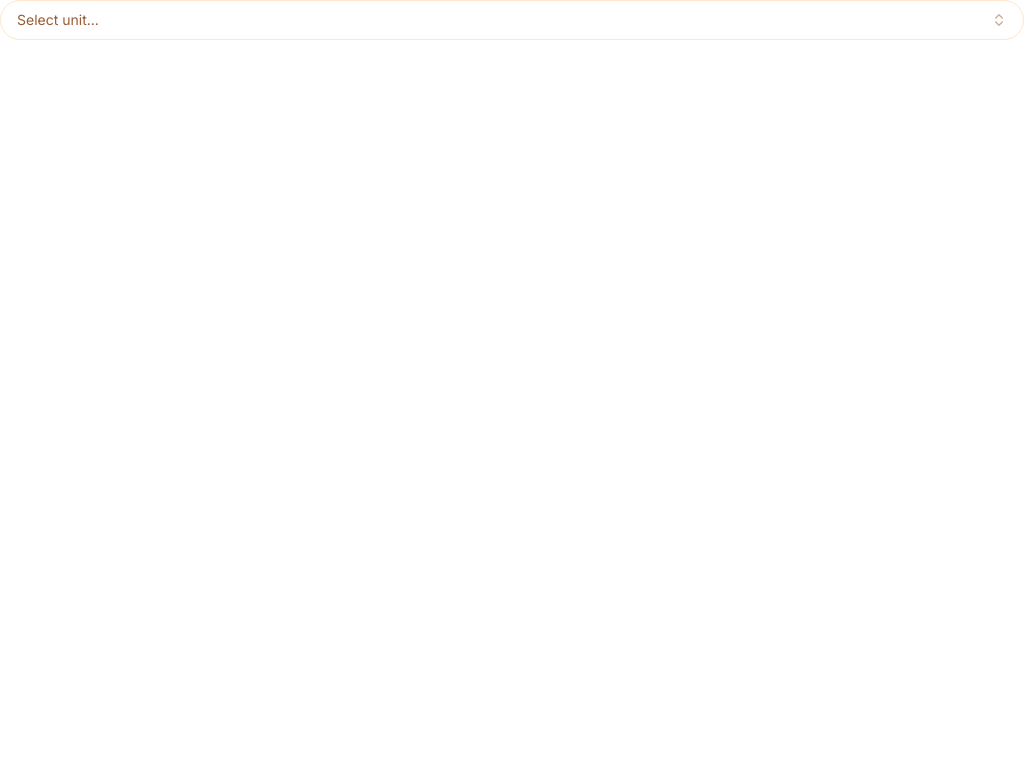
Test case: UnitSelect › fetches and displays units
Expected: the text "Select unit..." is shown, [17,10,99,30]
Click the dropdown with test id "unit-select-trigger" at (58, 20), box [0,0,1023,40]
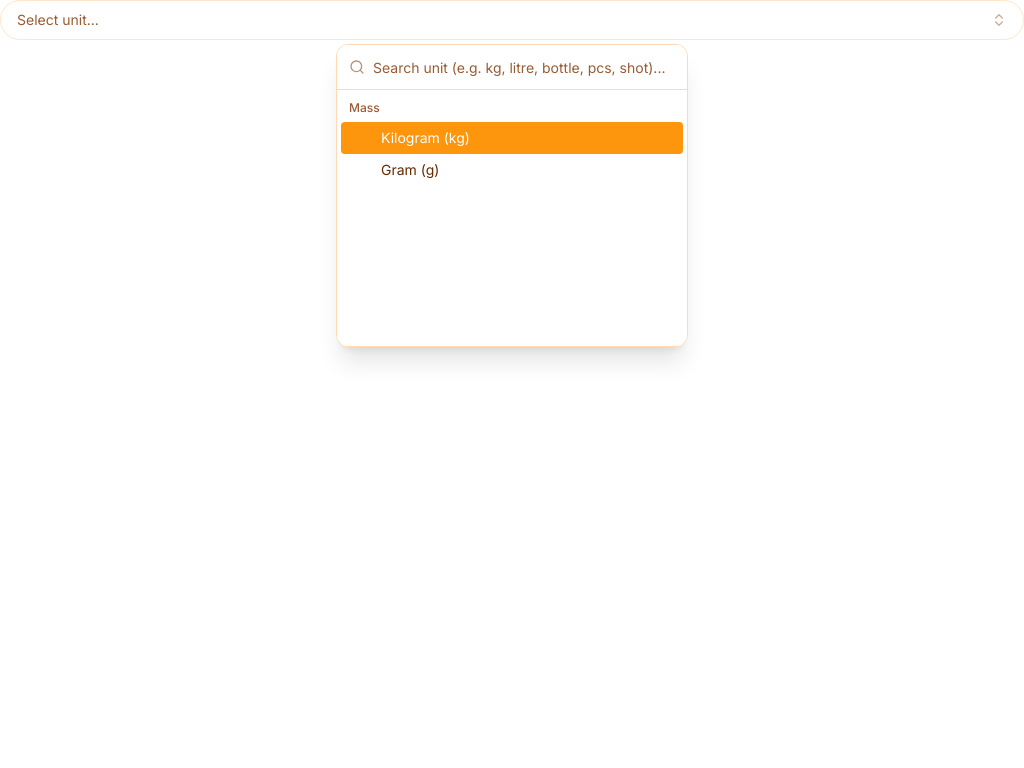
Expected: the text "Mass" is shown, [349,100,380,115]
Expected: the text "Kilogram (kg)" is shown, [381,128,470,148]
Expected: the text "Gram (g)" is shown, [381,160,439,180]
